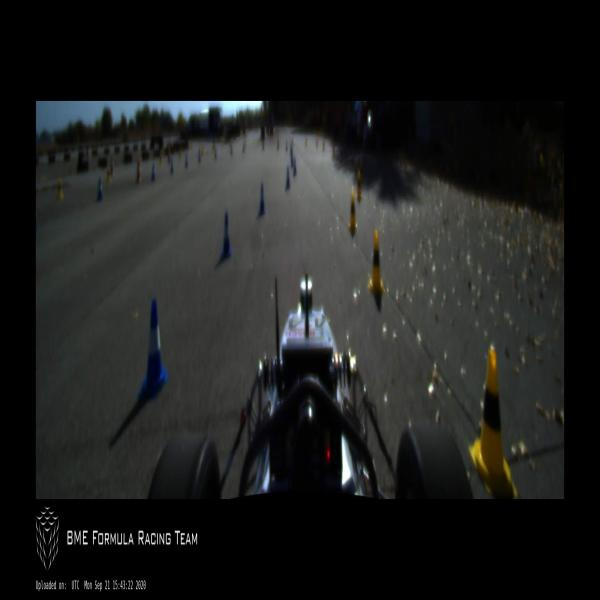blue_cone: (140, 300, 168, 398), (219, 210, 233, 260), (258, 182, 265, 216), (97, 178, 103, 200), (150, 162, 156, 182), (292, 157, 298, 176), (285, 168, 290, 190), (170, 154, 174, 177), (184, 152, 189, 168), (197, 147, 202, 162), (290, 148, 294, 163), (290, 142, 292, 155), (215, 148, 217, 158), (286, 141, 288, 151), (277, 138, 279, 148), (242, 142, 244, 152), (262, 140, 264, 149), (231, 145, 232, 154)
large_orange_cone: (136, 157, 142, 181), (111, 153, 114, 177)
orange_cone: (168, 145, 171, 162), (160, 149, 162, 165), (222, 135, 225, 145), (212, 142, 214, 154), (202, 144, 204, 155), (179, 147, 180, 162)
yellow_cone: (469, 349, 520, 498), (367, 230, 386, 295), (348, 192, 358, 229), (356, 170, 363, 199), (57, 176, 63, 200), (106, 164, 111, 183), (332, 146, 335, 160), (323, 140, 326, 153), (360, 161, 362, 179), (352, 153, 354, 168), (305, 137, 307, 146), (316, 138, 318, 146)
